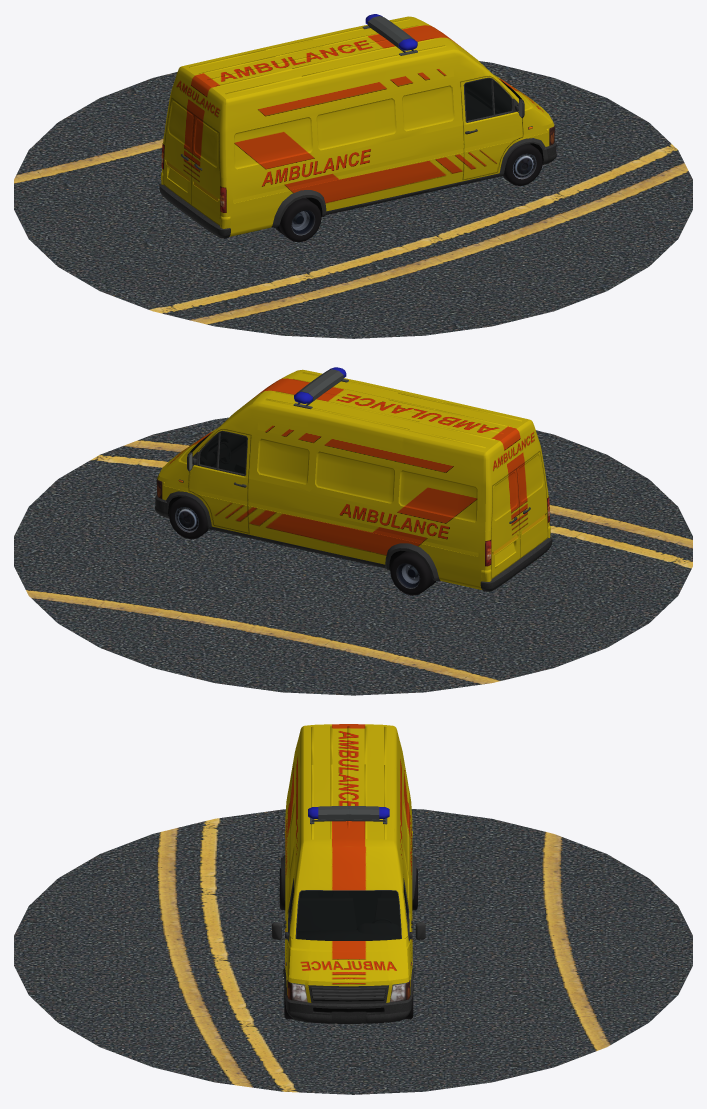
Rendered from Unity2Skfb.gltf.
3 renders of one model, top to bottom at view 1: azimuth 30°, elevation 25°; view 2: azimuth 150°, elevation 25°; view 3: azimuth 270°, elevation 25°, orthographic.
Parts seen in each view (by area): view 1: BASE, ambulance, Plastic, wheel_rr, wheel_fr; view 2: BASE, ambulance, Plastic, wheel_rl, wheel_fl; view 3: BASE, ambulance, Plastic.
Part boxes in pixels (bbox=[...]): BASE: bbox=[14, 61, 692, 338]; ambulance: bbox=[161, 16, 554, 236]; Plastic: bbox=[159, 16, 556, 238]; wheel_rr: bbox=[275, 198, 321, 242]; wheel_fr: bbox=[503, 143, 542, 186]; BASE: bbox=[14, 417, 692, 695]; ambulance: bbox=[157, 369, 550, 589]; Plastic: bbox=[154, 369, 552, 591]; wheel_rl: bbox=[390, 551, 435, 595]; wheel_fl: bbox=[168, 497, 208, 539]; BASE: bbox=[14, 809, 692, 1094]; ambulance: bbox=[284, 724, 412, 1002]; Plastic: bbox=[272, 806, 425, 1023].
Bounding box in the file's own units: 11.2 × 2.9 × 11.14.
6 materials, 5 textured.
